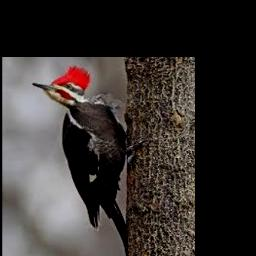Woodpecker: (33, 67, 152, 256)
